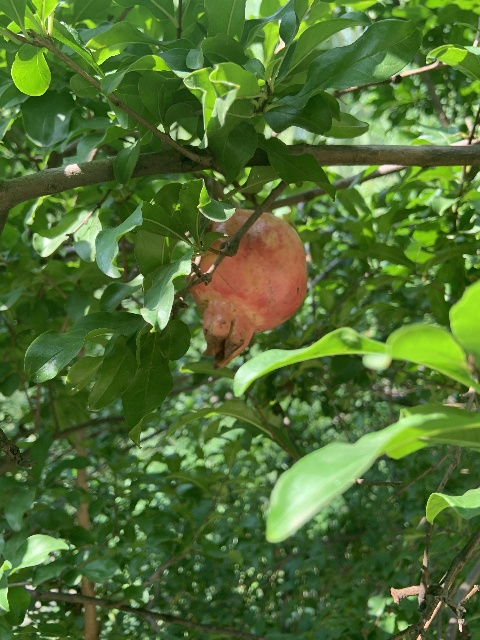ripe: (185, 210, 307, 370)
